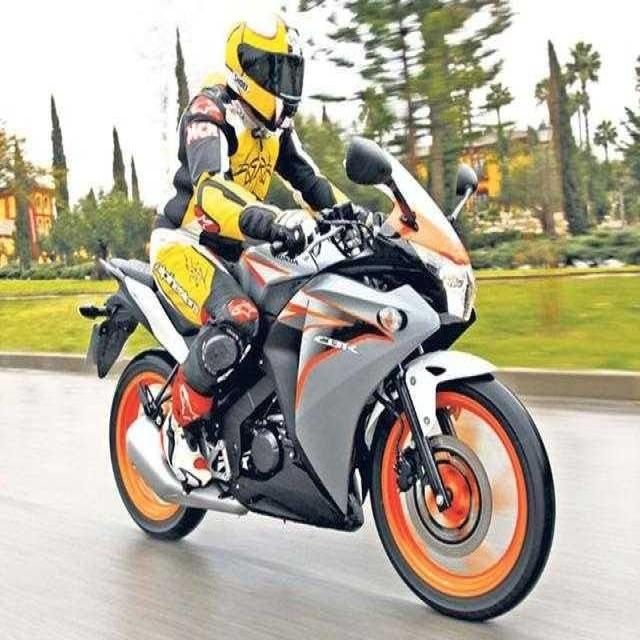Cycle: (58, 233, 505, 565)
